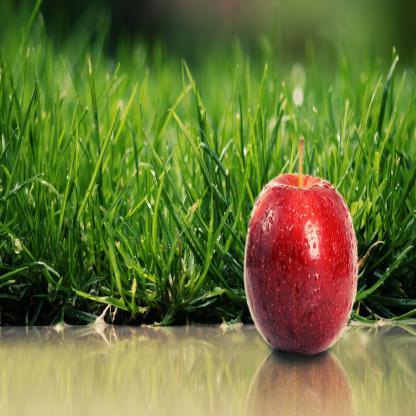apple: (241, 171, 357, 360)
